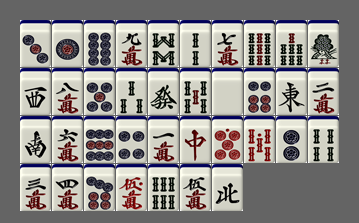0m: (116, 164, 147, 211)
0p: (212, 116, 243, 163)
0s: (244, 116, 275, 163)
1m: (148, 116, 179, 163)
1p: (52, 20, 83, 67)
1s: (308, 20, 339, 67)
1z: (276, 68, 307, 115)
2m: (308, 68, 339, 115)
2p: (276, 116, 307, 163)
2s: (180, 20, 211, 67)
2z: (20, 116, 51, 163)
3m: (20, 164, 51, 211)
3p: (20, 20, 51, 67)
3s: (116, 68, 147, 115)
3z: (20, 68, 51, 115)
4m: (52, 164, 83, 211)
4p: (116, 116, 147, 163)
4s: (308, 116, 339, 163)
4z: (212, 164, 243, 211)
5m: (180, 164, 211, 211)
5p: (84, 68, 115, 115)
5s: (180, 68, 211, 115)
5z: (212, 68, 243, 115)
6m: (52, 116, 83, 163)
6p: (244, 68, 275, 115)
6s: (148, 164, 179, 211)
6z: (148, 68, 179, 115)
7m: (212, 20, 243, 67)
7p: (84, 164, 115, 211)
7s: (276, 20, 307, 67)
7z: (180, 116, 211, 163)
8m: (52, 68, 83, 115)
8p: (84, 20, 115, 67)
8s: (148, 20, 179, 67)
9m: (116, 20, 147, 67)
9p: (84, 116, 115, 163)
9s: (244, 20, 275, 67)
